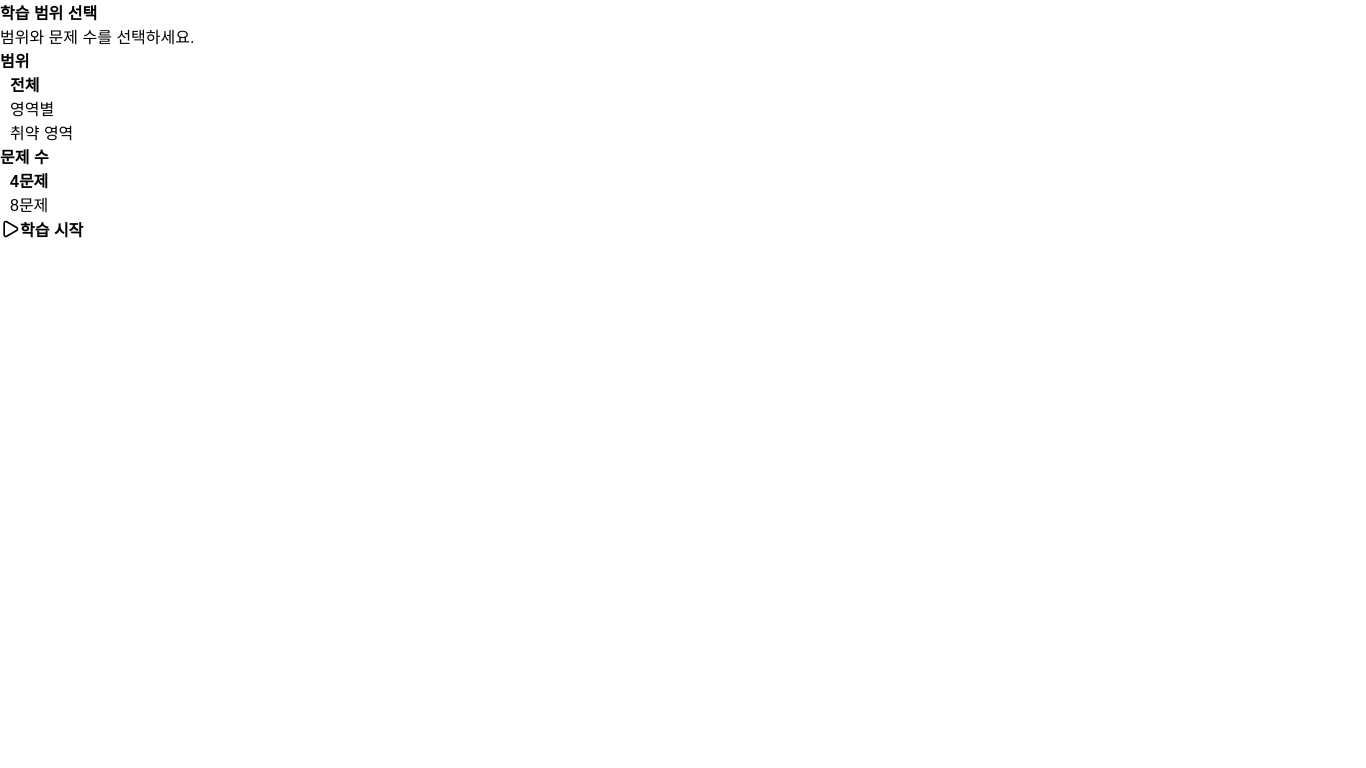
Test: #223 포기 확인 — 실패/지연 (AC4) › 401 실패 시 로그인 안내를 보인다
Click the button "학습 시작". click: (42, 229)
box: [0,216,83,242]
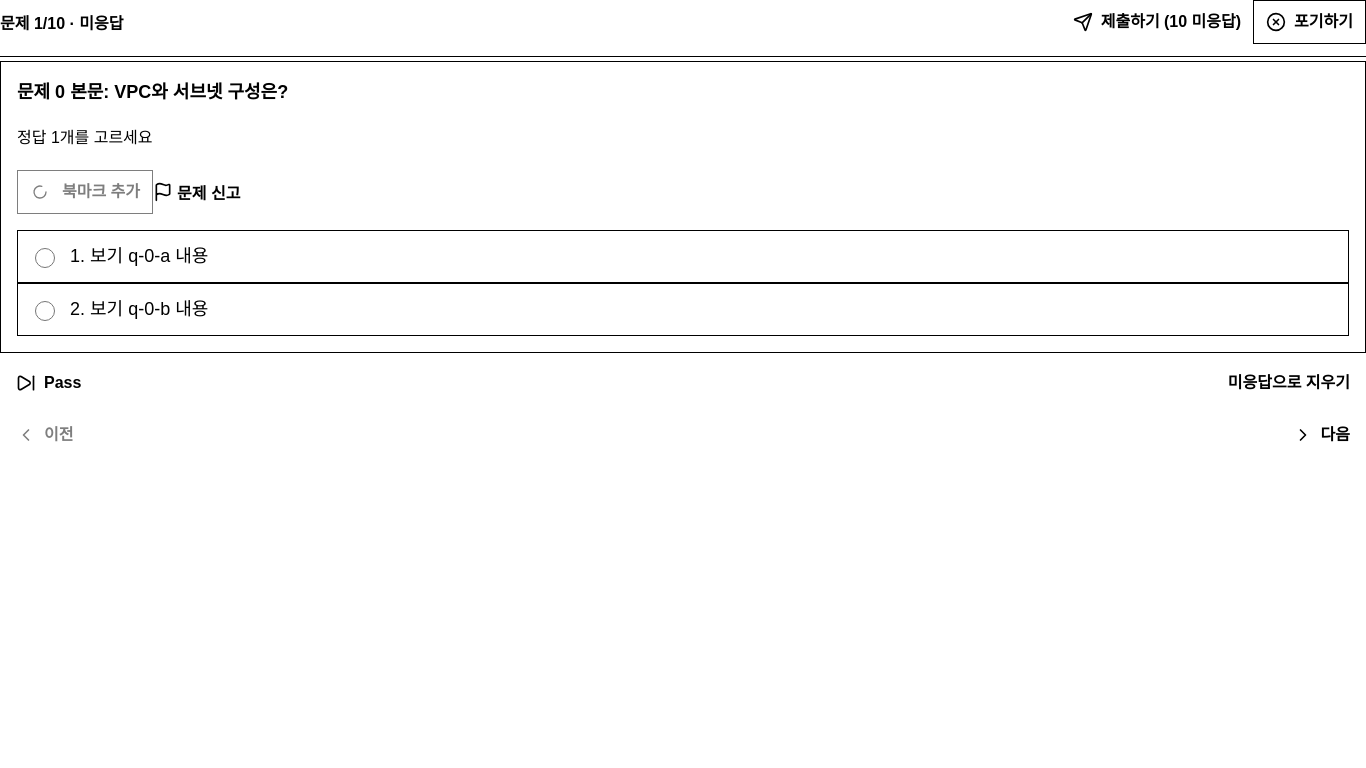
Now the text "문제 1/10 · 미응답" is shown, box [0,10,124,34]
Click the button "포기하기". click: (1310, 22)
box: [1253,0,1365,44]
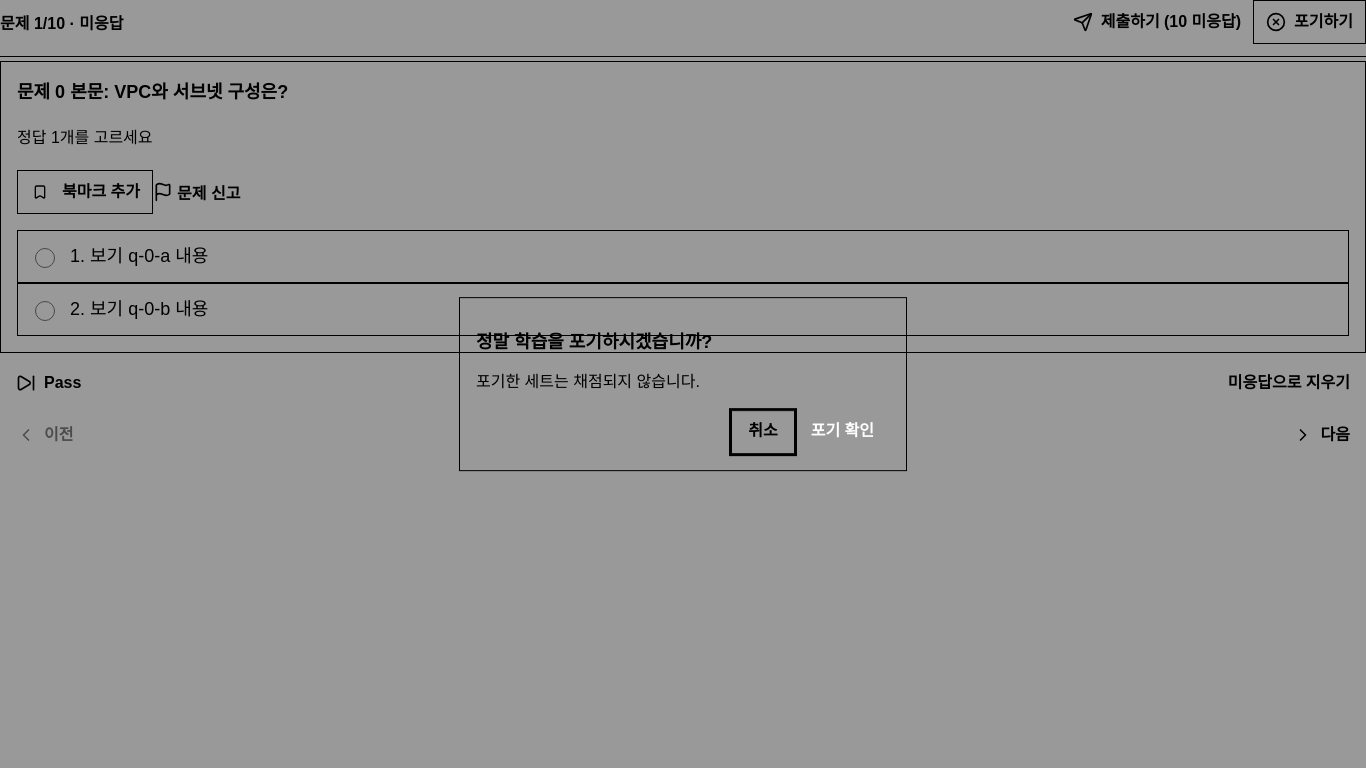
Click the button "포기 확인". click: (842, 432)
box: [795,410,890,454]
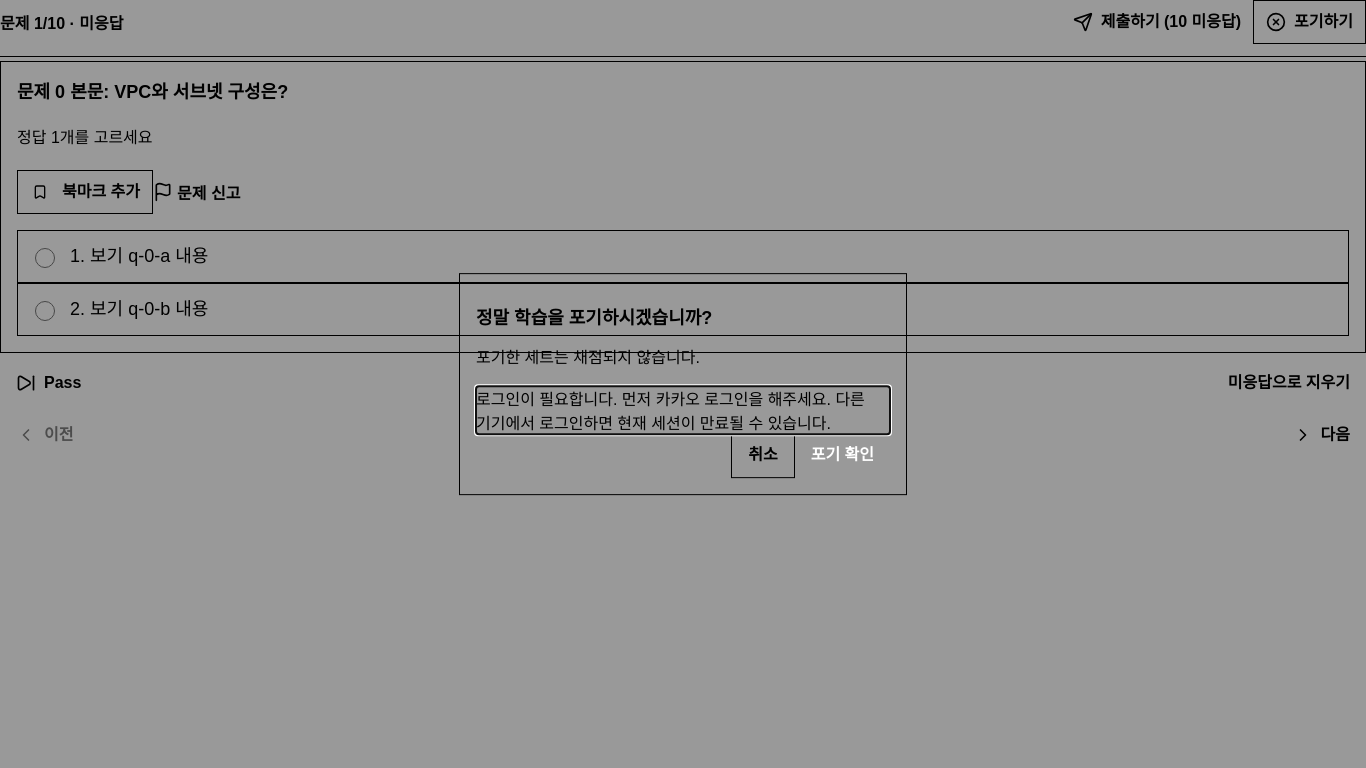
Now the dialog "정말 학습을 포기하시겠습니까?" is shown, box [459,273,907,495]
Now the message shows "로그인이 필요합니다", box [476,391,865,432]
